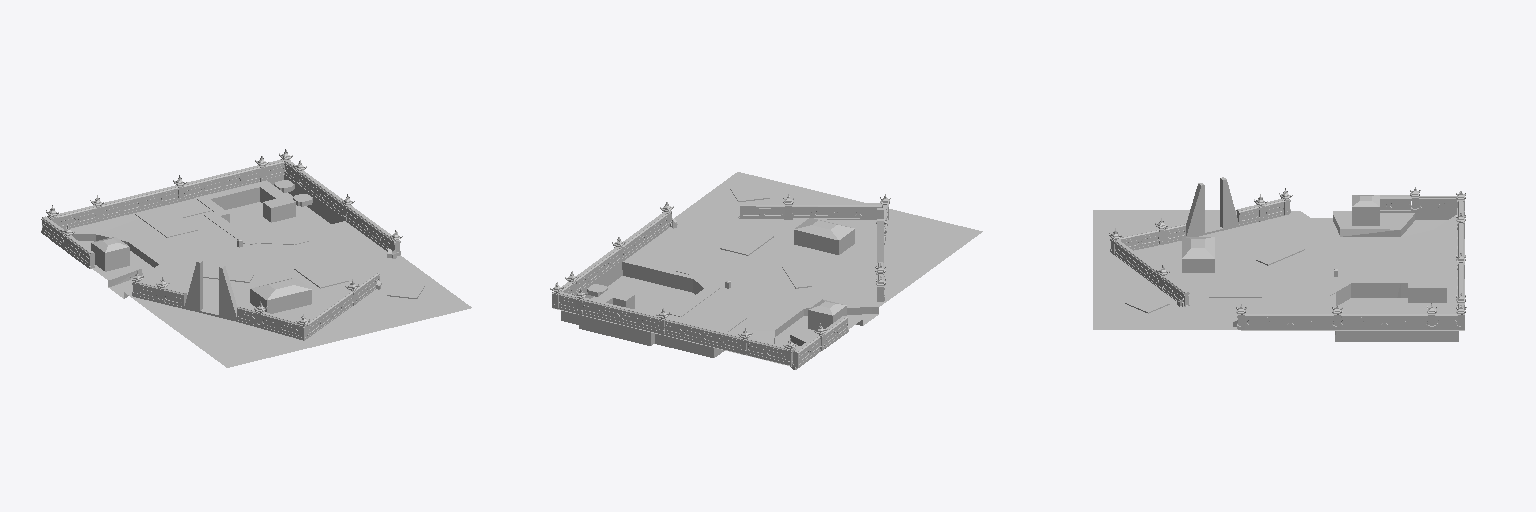
The model's file is TD_Blockout02_mesh.obj.
The picture shows the model from 3 angles: view 1: azimuth 30°, elevation 25°; view 2: azimuth 150°, elevation 25°; view 3: azimuth 270°, elevation 25°; orthographic projection.
Parts seen in each view (by area): view 1: TD_Blockout01_mesh:TD_blockout01_Mesh1, Walls:TD_Walls_mesh Walls:pCylinder3 Walls:polySurface16 TD_Bloc, Walls:TD_Walls_mesh Walls:polySurface13 TD_Blockout01_mesh:TD_bl; view 2: TD_Blockout01_mesh:TD_blockout01_Mesh1, Walls:TD_Walls_mesh Walls:pCylinder3 Walls:polySurface16 TD_Bloc, Walls:TD_Walls_mesh Walls:polySurface13 TD_Blockout01_mesh:TD_bl; view 3: TD_Blockout01_mesh:TD_blockout01_Mesh1, Walls:TD_Walls_mesh Walls:pCylinder3 Walls:polySurface16 TD_Bloc, Walls:TD_Walls_mesh Walls:polySurface13 TD_Blockout01_mesh:TD_bl.
Part boxes in pixels (x1,y1,x2,y2): TD_Blockout01_mesh:TD_blockout01_Mesh1: (51,177,471,367); Walls:TD_Walls_mesh Walls:pCylinder3 Walls:polySurface16 TD_Bloc: (41,160,391,338); Walls:TD_Walls_mesh Walls:polySurface13 TD_Blockout01_mesh:TD_bl: (46,149,402,340); TD_Blockout01_mesh:TD_blockout01_Mesh1: (553,172,982,369); Walls:TD_Walls_mesh Walls:pCylinder3 Walls:polySurface16 TD_Bloc: (558,203,887,367); Walls:TD_Walls_mesh Walls:polySurface13 TD_Blockout01_mesh:TD_bl: (550,194,890,365); TD_Blockout01_mesh:TD_blockout01_Mesh1: (1093,177,1464,341); Walls:TD_Walls_mesh Walls:pCylinder3 Walls:polySurface16 TD_Bloc: (1114,195,1463,329); Walls:TD_Walls_mesh Walls:polySurface13 TD_Blockout01_mesh:TD_bl: (1109,187,1466,329).
Size of the model in its own units: 68.33 by 18.88 by 88.29.